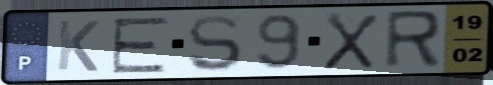9: (253, 12, 305, 72)
E: (108, 14, 173, 75)
K: (54, 18, 103, 74)
R: (381, 8, 444, 71)
S: (185, 13, 246, 74)
X: (320, 11, 382, 72)
